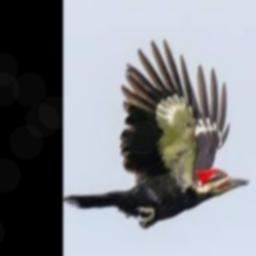Woodpecker: (64, 39, 251, 229)
